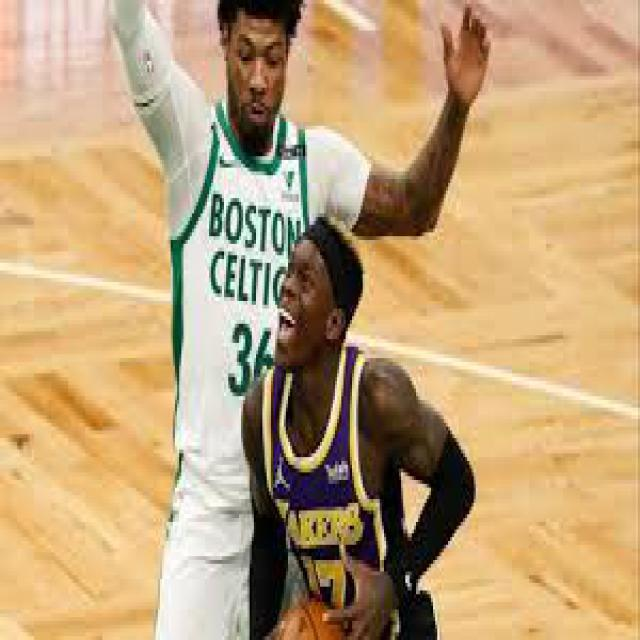basketball: (275, 594, 346, 636)
